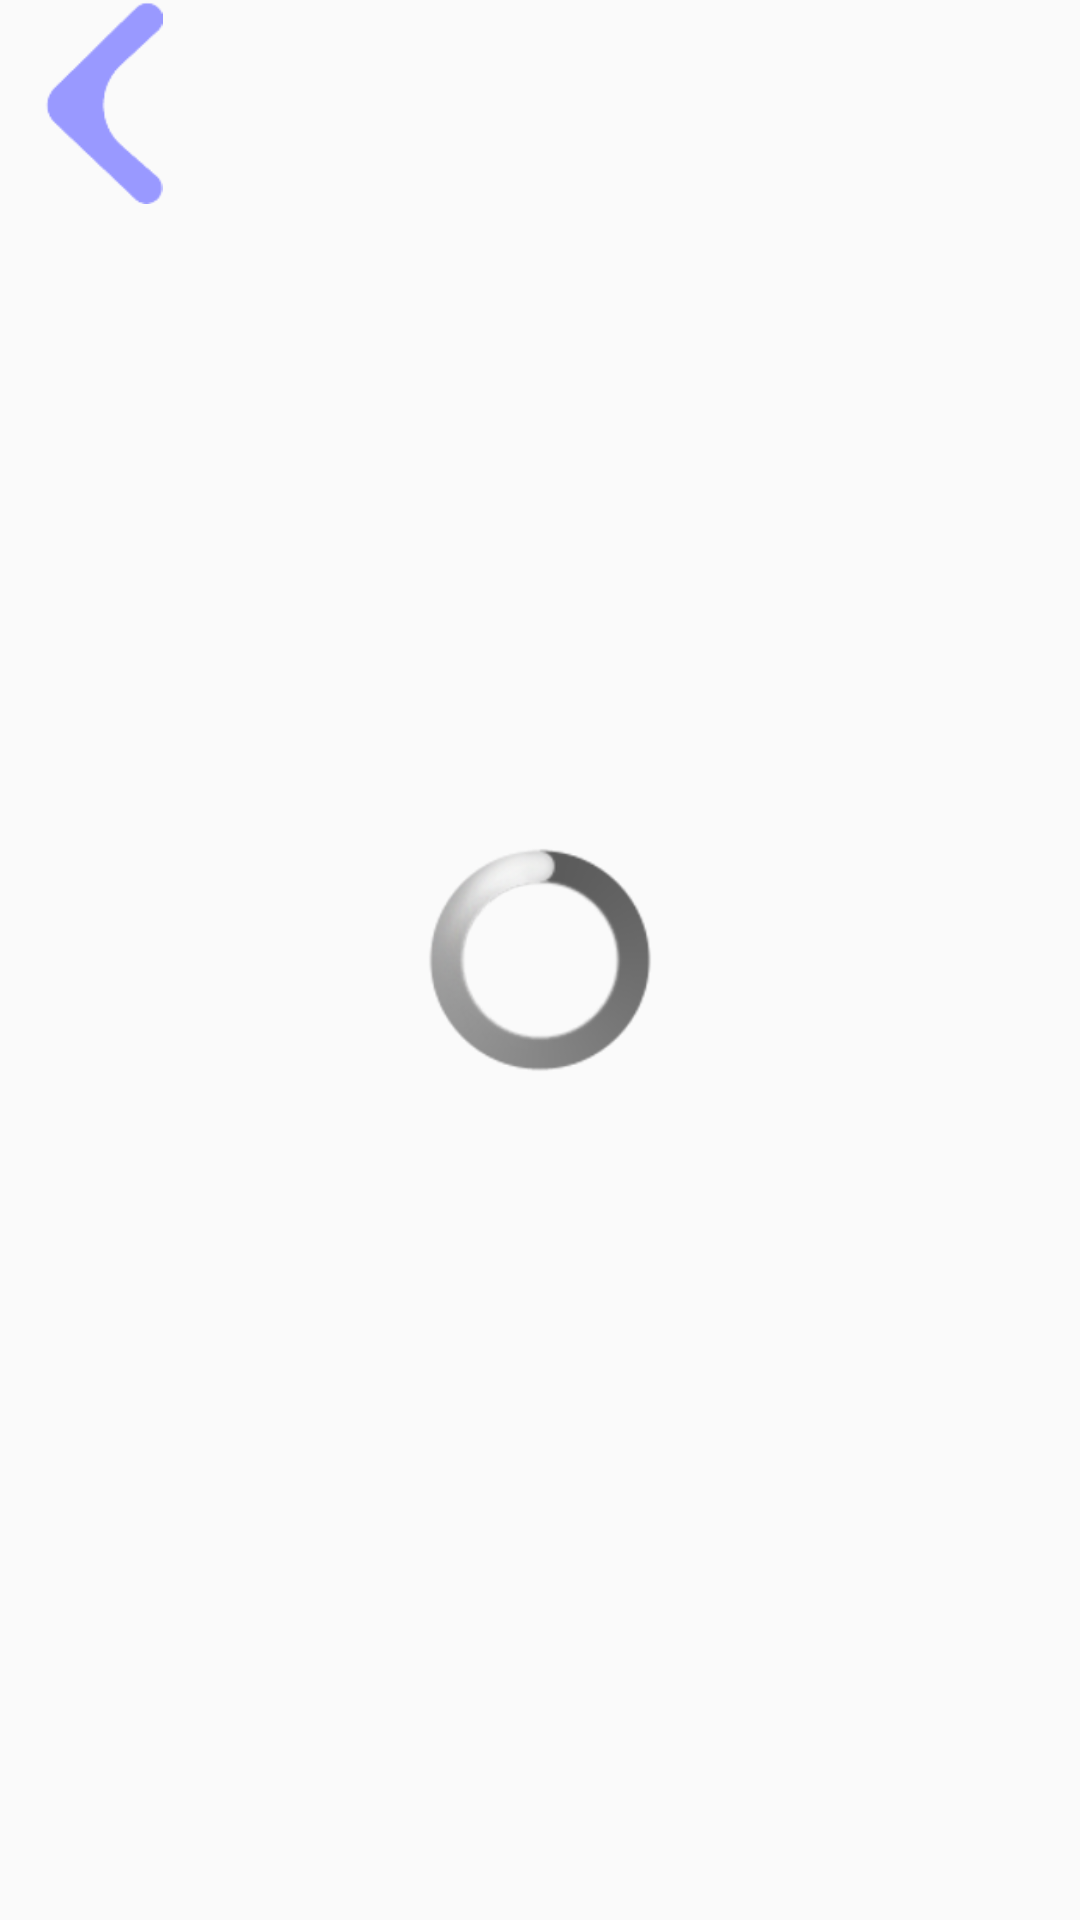

Locate icon controls on the screen. Image size 1080px×1920px, boxes as (x1, y1, x2, y2).
retour: (47, 3, 163, 204)
